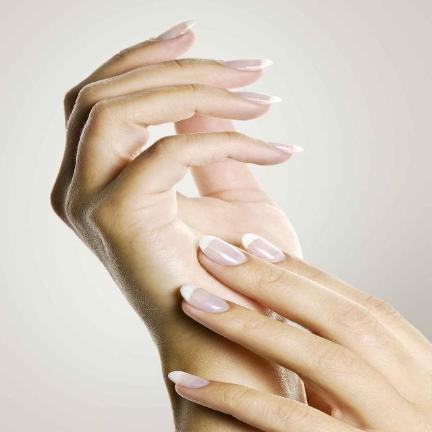Nail: (199, 235, 246, 266), (180, 285, 230, 313), (241, 233, 285, 263), (154, 19, 197, 40), (218, 57, 274, 71), (168, 371, 210, 388), (229, 91, 283, 104), (267, 142, 305, 153)
